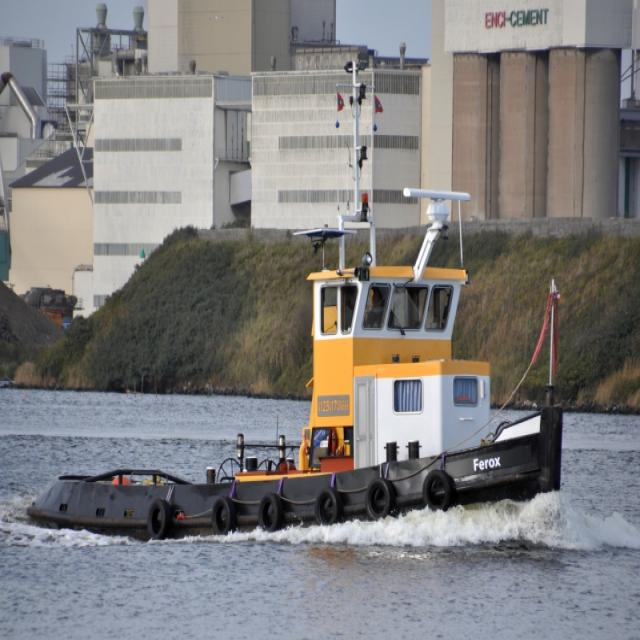tugboat: (24, 63, 568, 551)
